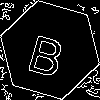B: (25, 25, 70, 79)
